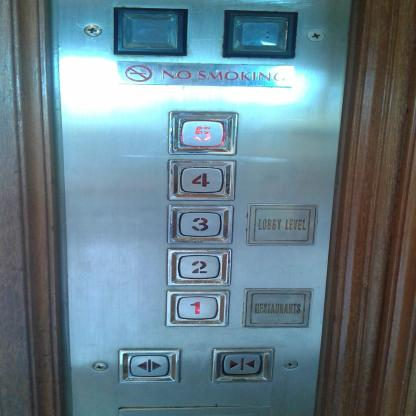1: (164, 289, 231, 328)
2: (166, 246, 233, 287)
3: (166, 204, 235, 244)
4: (166, 158, 237, 201)
5: (166, 110, 238, 156)
close: (210, 348, 274, 384)
empty: (110, 5, 190, 57), (220, 8, 301, 59)
open: (116, 348, 180, 384)
